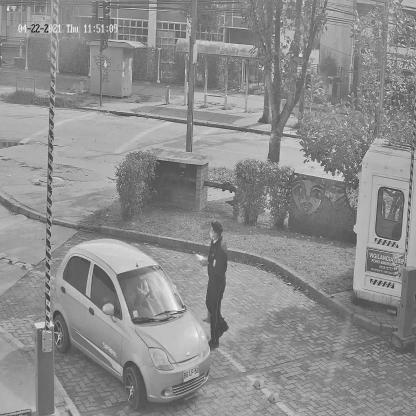Patente: (183, 365, 201, 382)
